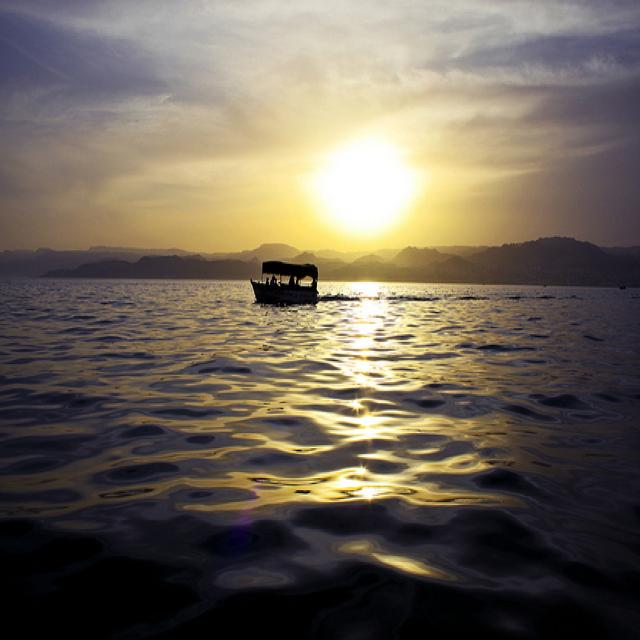Boat: (247, 248, 324, 306)
